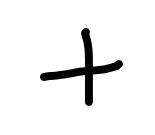plus: (40, 28, 123, 106)
